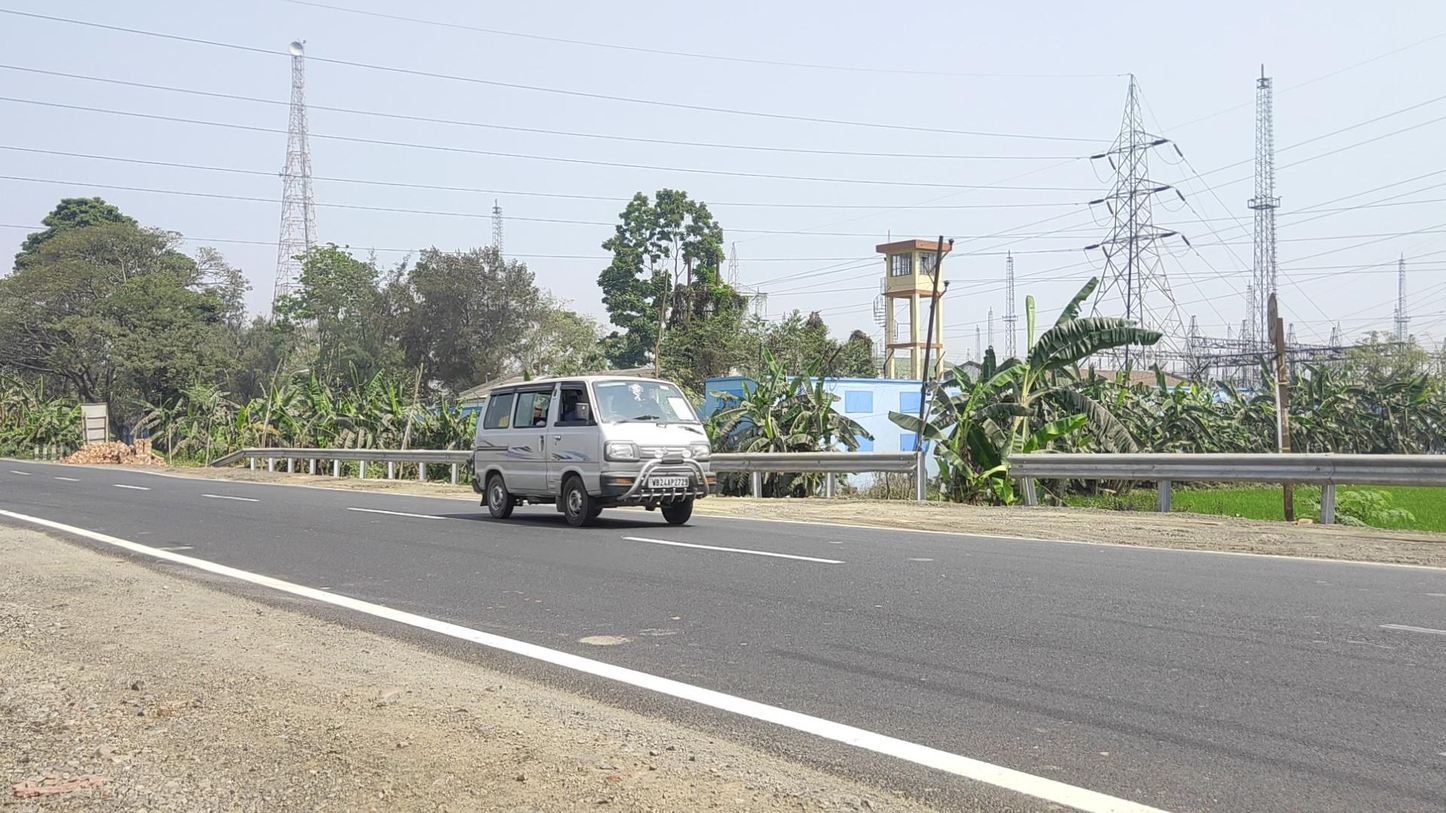van: (470, 374, 716, 528)
